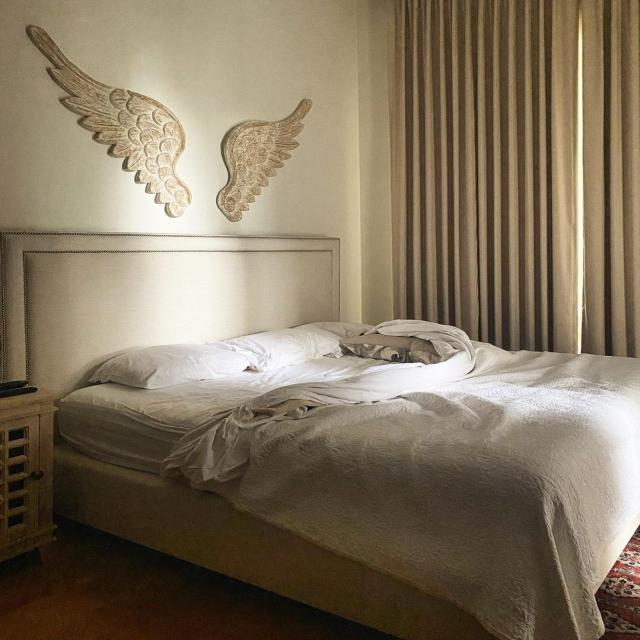bed: (64, 305, 640, 640)
